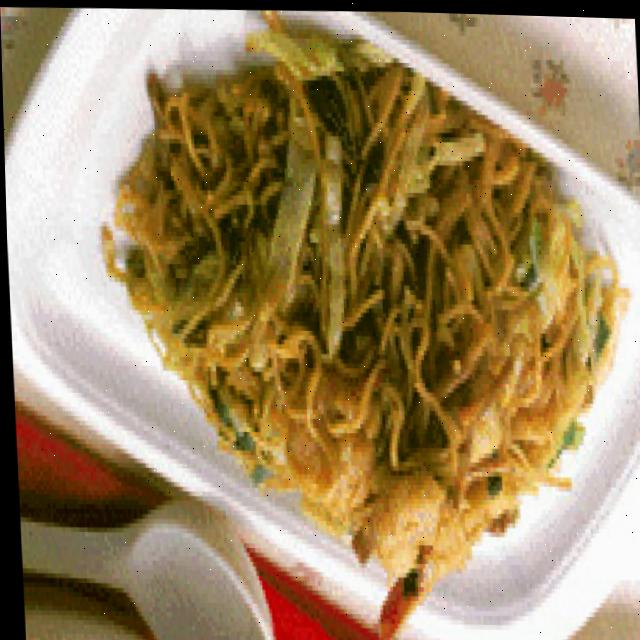面条主食: (103, 11, 631, 602)
